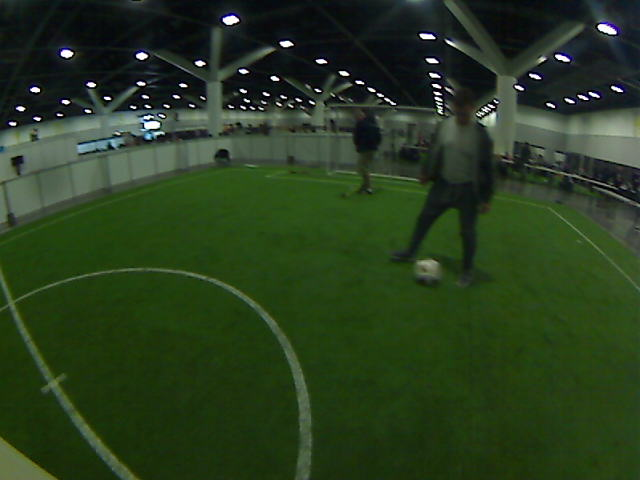ball: (415, 257, 441, 286)
goalpost: (322, 128, 339, 175)
